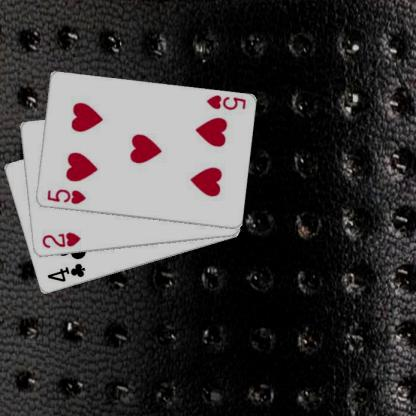2H: (39, 230, 81, 250)
4C: (44, 260, 86, 284)
5H: (44, 187, 87, 206), (204, 93, 246, 111)
